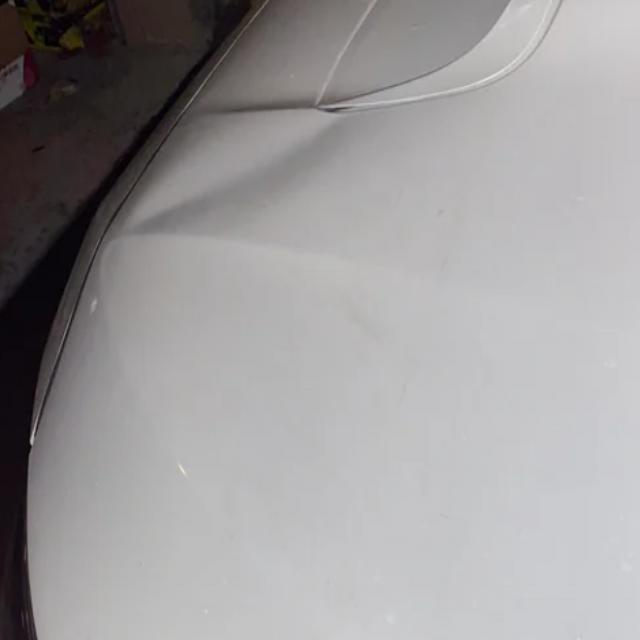dents: (99, 92, 374, 240)
